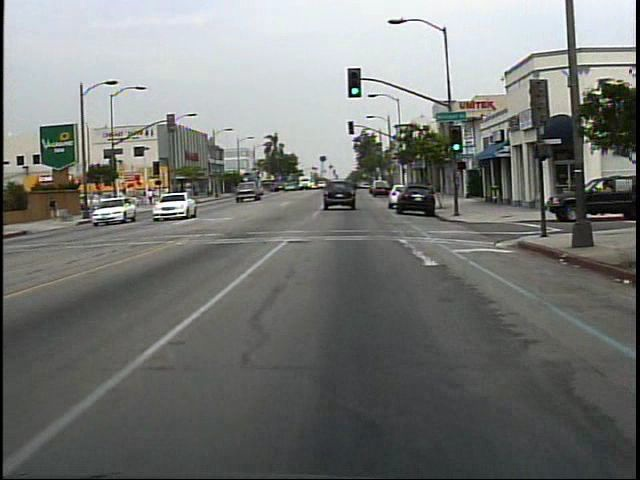person: (46, 195, 65, 223), (145, 185, 158, 209)
